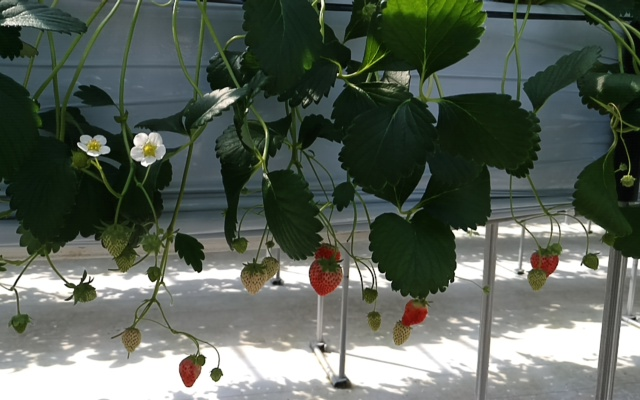GreenStrawberry: (98, 222, 130, 258), (240, 261, 269, 297), (257, 255, 280, 283), (71, 282, 100, 304), (114, 243, 134, 274), (391, 320, 412, 347), (121, 326, 141, 354), (527, 268, 548, 292), (9, 313, 30, 335), (581, 253, 601, 271), (366, 311, 382, 333), (231, 237, 250, 254), (210, 366, 224, 383), (147, 265, 161, 282)
MatureStrawberry: (308, 258, 343, 297), (529, 247, 560, 281), (314, 242, 341, 277), (178, 354, 202, 388), (402, 299, 428, 328)
